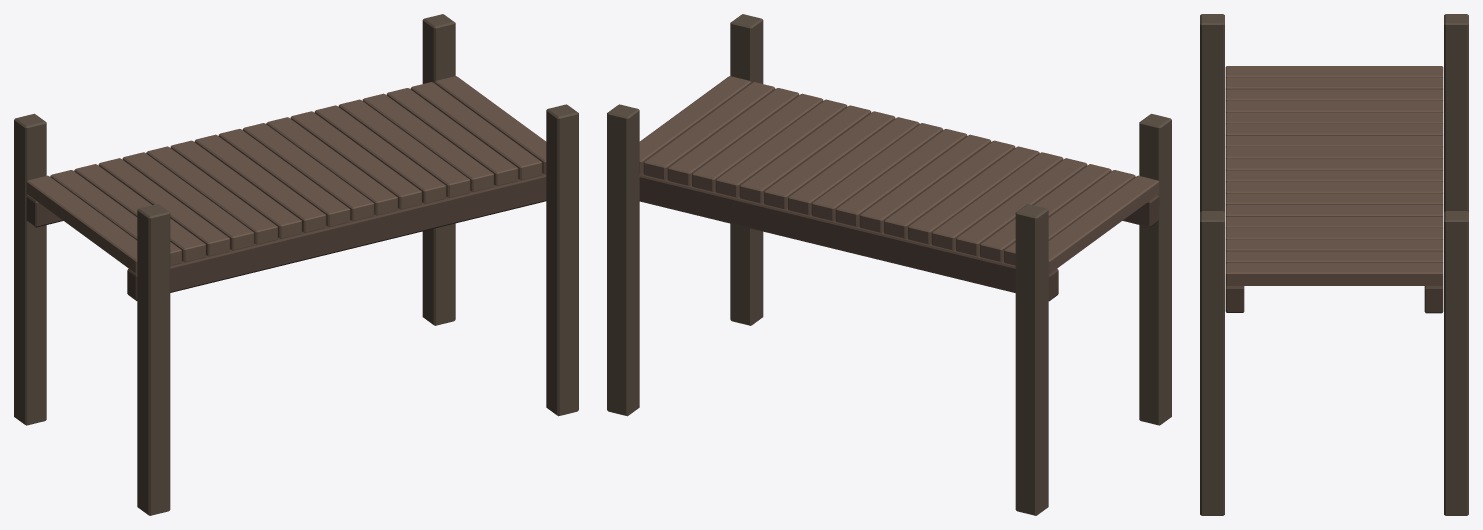
Rendered from dock.fbx.
3 views of the same model, side by side, from view 1: azimuth 30°, elevation 25°; view 2: azimuth 150°, elevation 25°; view 3: azimuth 270°, elevation 25° (orthographic).
Visible parts, largest first — view 1: dock; view 2: dock; view 3: dock.
Part boxes in pixels (x1,y1,x2,y2): dock: (14,14,578,515); dock: (607,14,1171,515); dock: (1200,14,1468,515).
Size of the model in its own units: 717 by 393 by 477.
